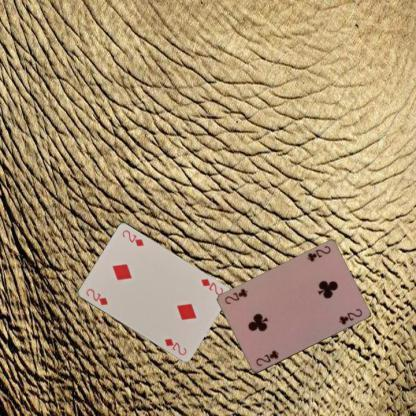2c: (304, 244, 332, 264), (253, 348, 280, 368)
2d: (83, 286, 109, 307), (198, 276, 224, 297)
